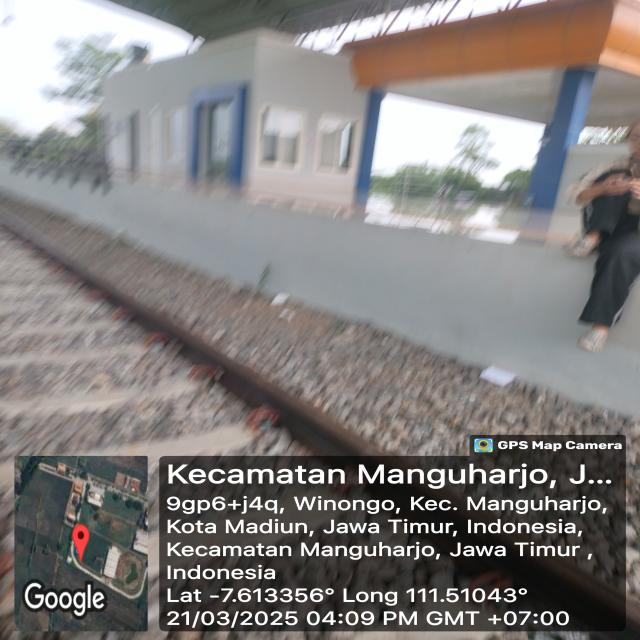rail-detection: (0, 207, 385, 455)
